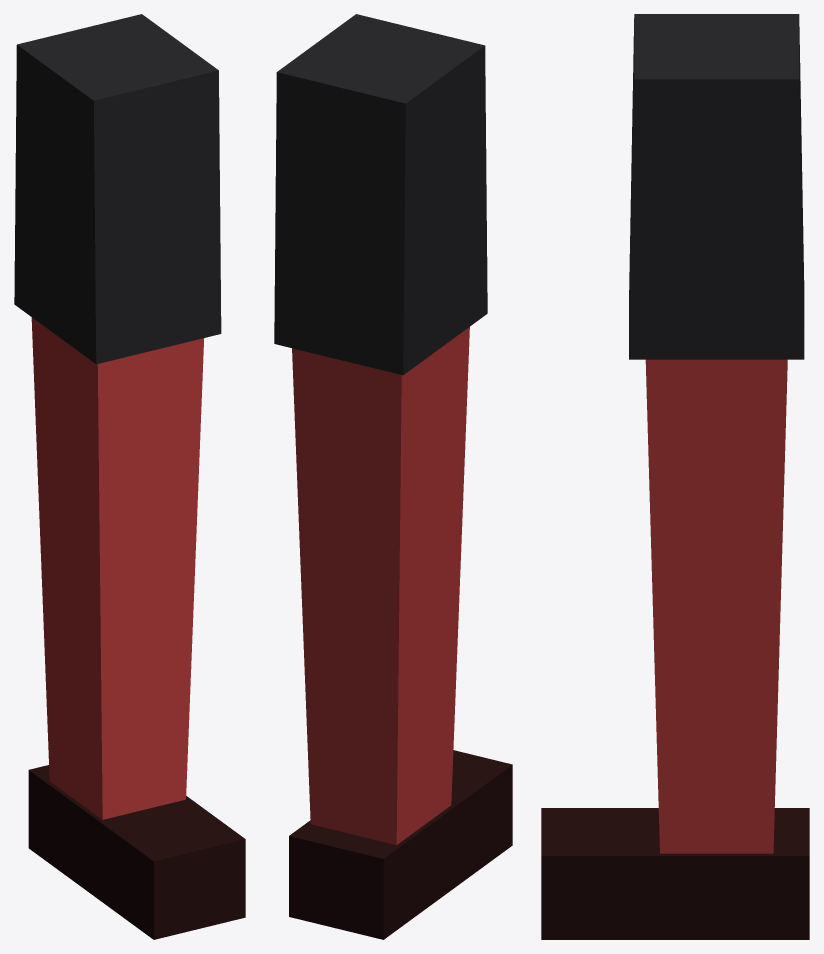
The model's file is leg_k14.glb.
3 renders of one model, left to right at view 1: azimuth 30°, elevation 25°; view 2: azimuth 150°, elevation 25°; view 3: azimuth 270°, elevation 25°, orthographic. The views are drawn at different scales.
Parts seen in each view (by area): view 1: leg_kit; view 2: leg_kit; view 3: leg_kit.
Part boxes in pixels (box(x1,y1,x2,y2)): leg_kit: box(14, 14, 245, 939); leg_kit: box(274, 14, 512, 939); leg_kit: box(541, 14, 809, 939).
Bounding box in the file's own units: 0.15 × 0.93 × 0.26.
